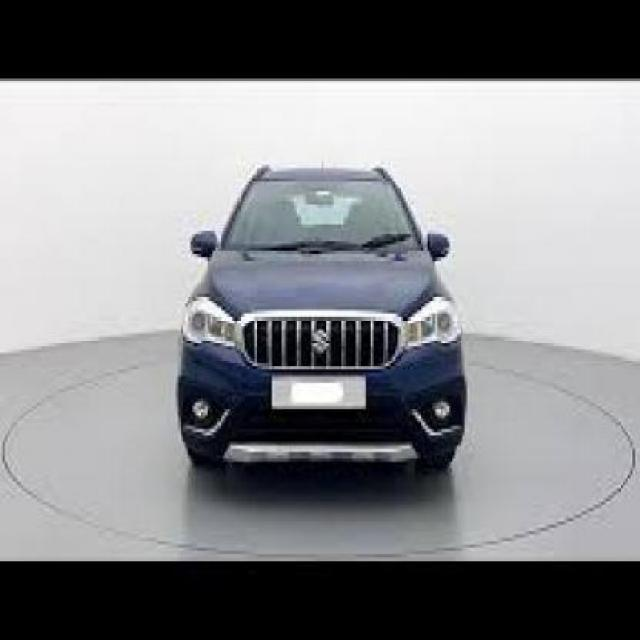vehicle: (174, 143, 472, 482)
